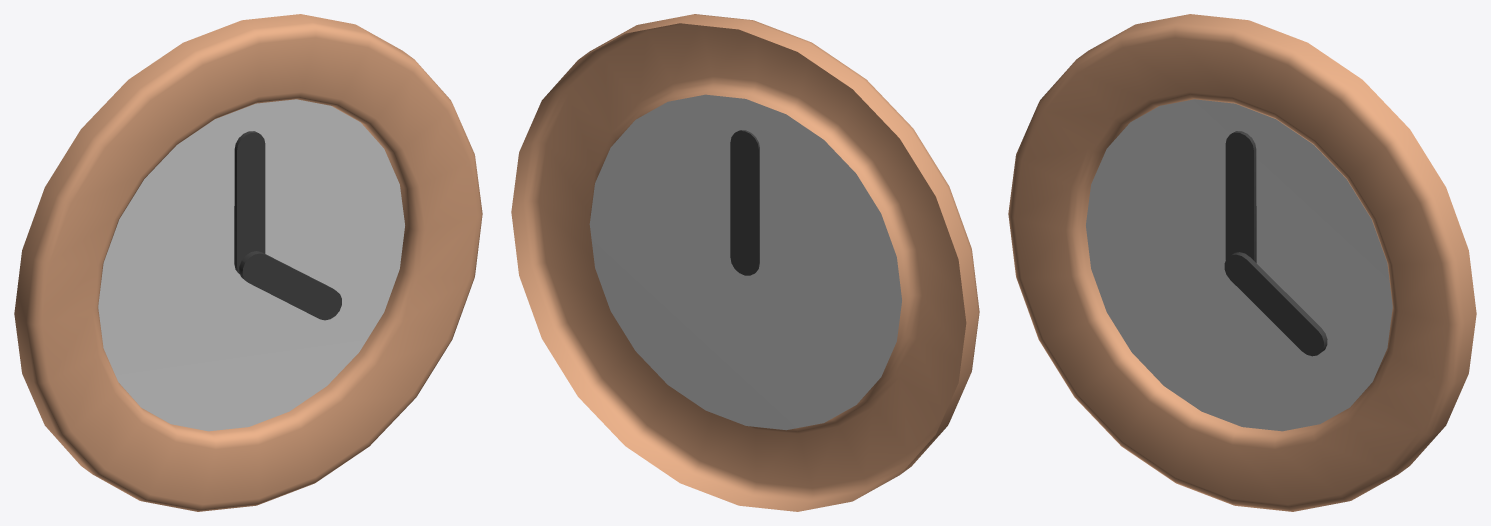
Rendered from 02_Clock.fbx.
The picture shows the model from 3 angles, left to right: view 1: azimuth 30°, elevation 25°; view 2: azimuth 150°, elevation 25°; view 3: azimuth 330°, elevation 25°; orthographic projection.
Parts seen in each view (by area): view 1: Cylinder.039, Cube.095; view 2: Cylinder.039, Cube.095; view 3: Cylinder.039, Cube.095.
Boxes of the visible parts, x1,y1,x2,y2 form: Cylinder.039: (14, 14, 482, 511); Cube.095: (234, 131, 341, 320); Cylinder.039: (511, 14, 979, 511); Cube.095: (730, 130, 759, 275); Cylinder.039: (1008, 14, 1476, 511); Cube.095: (1224, 131, 1327, 356).
Bounding box in the file's own units: 22.56 × 22.56 × 1.5.
